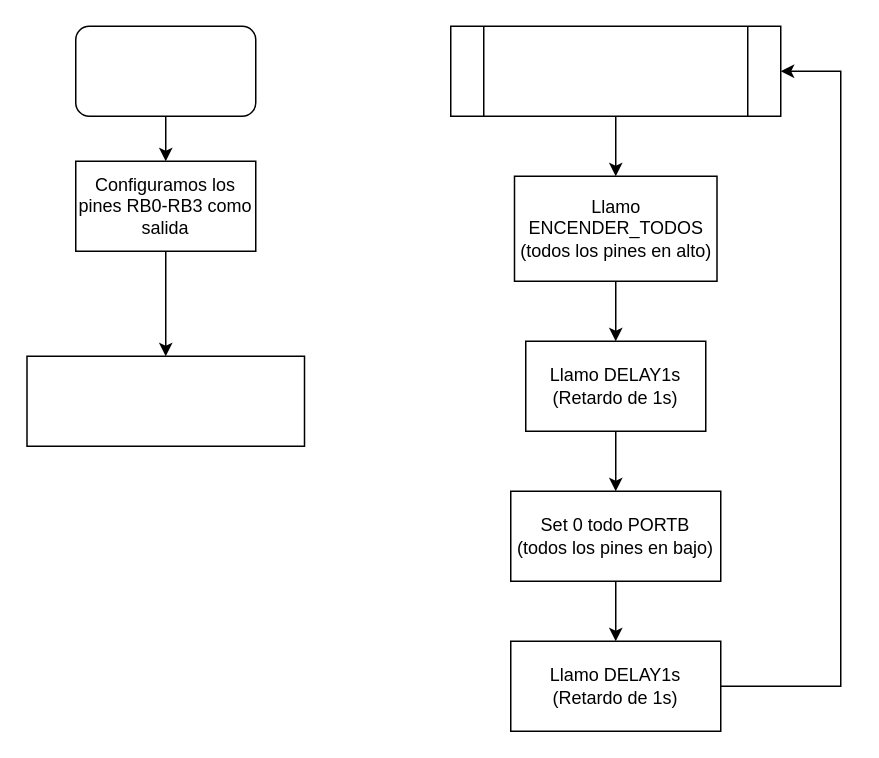
The diagram is 879 pixels wide and 758 high, and some of its shapes have lost their labels. The shapes that lost their labels are listed below. From the top down, each one's box as (x1, y1, x2, y2) in pixels, then its label:
(74, 25, 256, 116): INICIO
(449, 25, 781, 116): ENCENDER_POR_SEGUNDO
(26, 355, 304, 446): Llamo ENCENDER_POR_SEGUNDO
